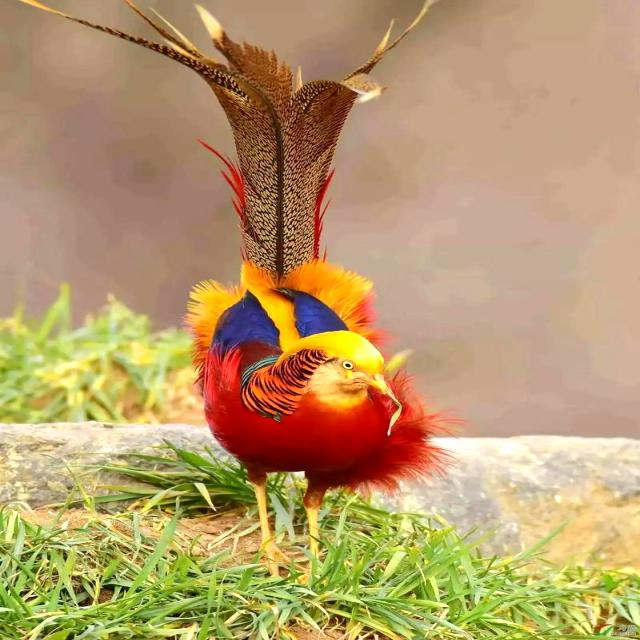Chrysolophus pictus feather: (12, 0, 442, 278)
